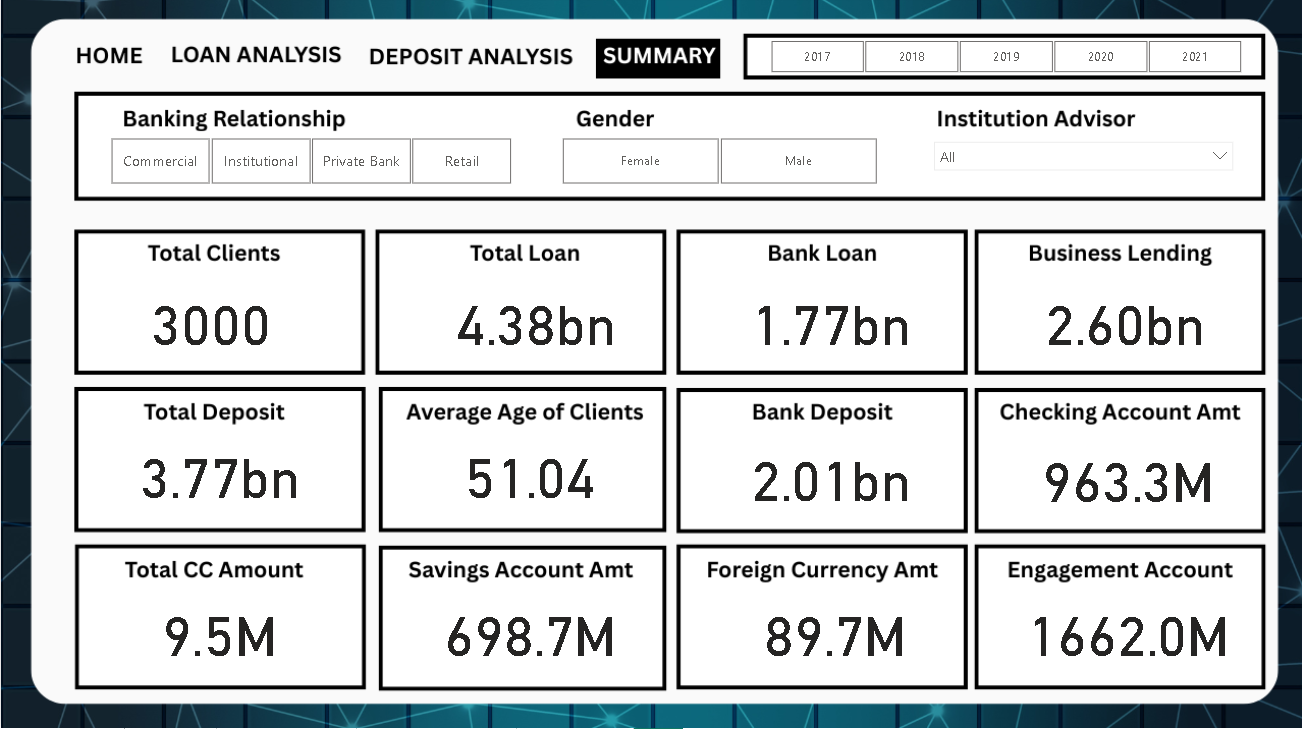

The page's visual inventory and layout, read from the dashboard file:
{"tool":"powerbi","page":{"name":"Summary","canvas":[1280,720],"ordinal":3},"visuals":[{"type":"slicer","fields":{"Values":["banking_case customers.Year of Joining"]},"box":[729.5,37.9,511.6,44.7],"z":0},{"type":"slicer","fields":{"Values":["banking_case customers.BRId"]},"box":[82.6,134,442.5,58.2],"z":1000},{"type":"slicer","fields":{"Values":["banking_case customers.GenderId"]},"box":[525.1,134,358.6,58.2],"z":2000},{"type":"slicer","fields":{"Values":["banking_case customers.IAId"]},"box":[905.4,134,314,58.2],"z":3000},{"type":"card","fields":{"Values":["CountNonNull(banking_case customers.Name)"]},"box":[128.6,274.7,154.3,85.3],"z":4000},{"type":"card","fields":{"Values":["Sum(banking_case customers.Bank Loans)"]},"box":[726.8,274.7,178.6,85.3],"z":5000},{"type":"card","fields":{"Values":["banking_case customers.Total Loan"]},"box":[429,274.7,192.2,85.3],"z":6000},{"type":"card","fields":{"Values":["Sum(banking_case customers.Business Lending)"]},"box":[1015,274.7,178.6,85.3],"z":7000},{"type":"card","fields":{"Values":["banking_case customers.Total Deposit"]},"box":[125.9,426.3,178.6,85.3],"z":8000},{"type":"card","fields":{"Values":["banking_case customers.AverageAge"]},"box":[429,426.3,178.6,85.3],"z":9000},{"type":"card","fields":{"Values":["Sum(banking_case customers.Bank Deposits)"]},"box":[726.8,427.7,178.6,85.3],"z":10000},{"type":"card","fields":{"Values":["Sum(banking_case customers.Checking Accounts)"]},"box":[993.4,429,226,85.3],"z":11000},{"type":"card","fields":{"Values":["Sum(banking_case customers.Credit Card Balance)"]},"box":[101.5,580.6,226,85.3],"z":12000},{"type":"card","fields":{"Values":["Sum(banking_case customers.Saving Accounts)"]},"box":[406,580.6,226,85.3],"z":13000},{"type":"card","fields":{"Values":["Sum(banking_case customers.Foreign Currency Account)"]},"box":[705.1,580.6,226,85.3],"z":14000},{"type":"card","fields":{"Values":["banking_case customers.Total_Engagement_Amount"]},"box":[993.4,580.6,226,85.3],"z":15000},{"type":"actionButton","box":[66.3,44.7,78.5,33.8],"z":16000},{"type":"actionButton","box":[162.4,39.2,175.9,33.8],"z":17000},{"type":"actionButton","box":[355.8,39.3,218.4,44.2],"z":18000}]}

Visuals, with their boxes in screenshot pixels (x1, y1, x2, y2), scaled from the page's 1280x720 canvas onto the 1302x729 screenshot:
slicer - banking_case customers.Year of Joining: {"x1": 742, "y1": 38, "x2": 1262, "y2": 84}
slicer - banking_case customers.BRId: {"x1": 84, "y1": 136, "x2": 534, "y2": 195}
slicer - banking_case customers.GenderId: {"x1": 534, "y1": 136, "x2": 899, "y2": 195}
slicer - banking_case customers.IAId: {"x1": 921, "y1": 136, "x2": 1240, "y2": 195}
card - CountNonNull(banking_case customers.Name): {"x1": 131, "y1": 278, "x2": 288, "y2": 364}
card - Sum(banking_case customers.Bank Loans): {"x1": 739, "y1": 278, "x2": 921, "y2": 364}
card - banking_case customers.Total Loan: {"x1": 436, "y1": 278, "x2": 632, "y2": 364}
card - Sum(banking_case customers.Business Lending): {"x1": 1032, "y1": 278, "x2": 1214, "y2": 364}
card - banking_case customers.Total Deposit: {"x1": 128, "y1": 432, "x2": 310, "y2": 518}
card - banking_case customers.AverageAge: {"x1": 436, "y1": 432, "x2": 618, "y2": 518}
card - Sum(banking_case customers.Bank Deposits): {"x1": 739, "y1": 433, "x2": 921, "y2": 519}
card - Sum(banking_case customers.Checking Accounts): {"x1": 1010, "y1": 434, "x2": 1240, "y2": 521}
card - Sum(banking_case customers.Credit Card Balance): {"x1": 103, "y1": 588, "x2": 333, "y2": 674}
card - Sum(banking_case customers.Saving Accounts): {"x1": 413, "y1": 588, "x2": 643, "y2": 674}
card - Sum(banking_case customers.Foreign Currency Account): {"x1": 717, "y1": 588, "x2": 947, "y2": 674}
card - banking_case customers.Total_Engagement_Amount: {"x1": 1010, "y1": 588, "x2": 1240, "y2": 674}
actionButton: {"x1": 67, "y1": 45, "x2": 147, "y2": 79}
actionButton: {"x1": 165, "y1": 40, "x2": 344, "y2": 74}
actionButton: {"x1": 362, "y1": 40, "x2": 584, "y2": 85}
